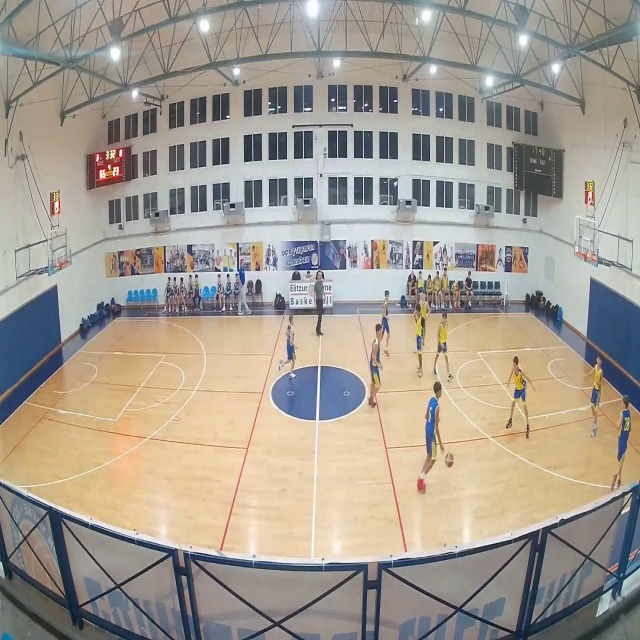Basketball: (445, 452, 454, 467)
